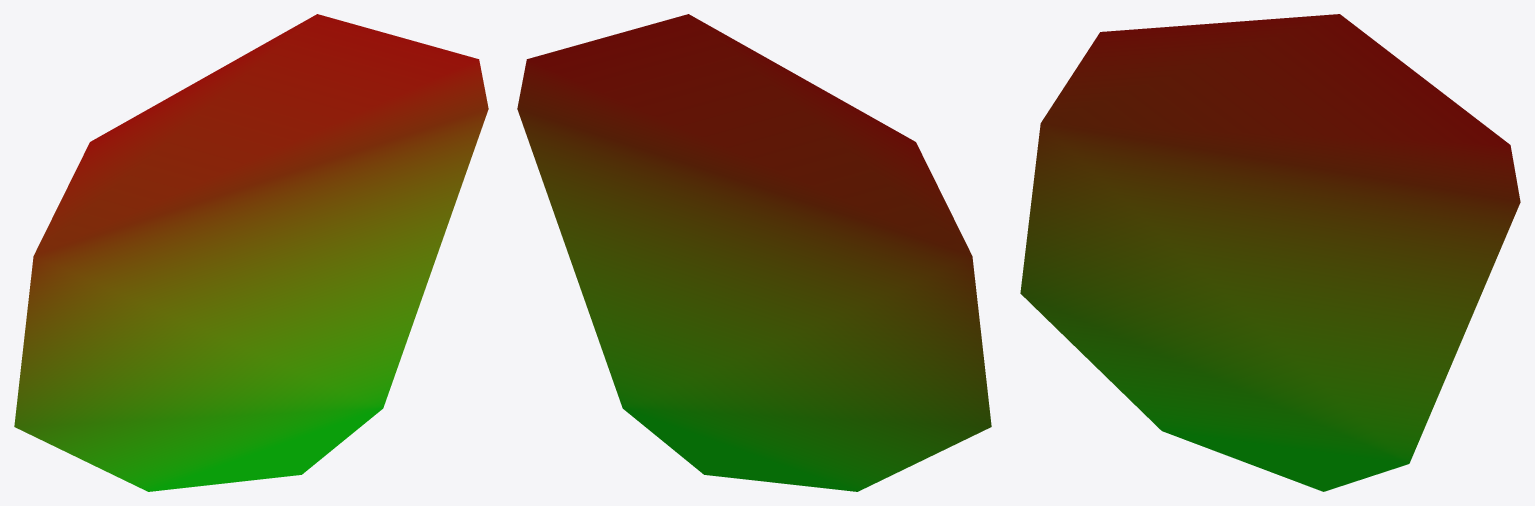
Rendered from Var2_LOD6.fbx.
3 renders of one model, left to right at view 1: azimuth 30°, elevation 25°; view 2: azimuth 150°, elevation 25°; view 3: azimuth 330°, elevation 25°, orthographic. The views are drawn at different scales.
Parts seen in each view (by area): view 1: _70c4_Var2_LOD6; view 2: _70c4_Var2_LOD6; view 3: _70c4_Var2_LOD6.
Part boxes in pixels (left/top/right/bottom): _70c4_Var2_LOD6: left=14, top=14, right=488, bottom=491; _70c4_Var2_LOD6: left=517, top=14, right=991, bottom=491; _70c4_Var2_LOD6: left=1020, top=14, right=1520, bottom=491.
Bounding box in the file's own units: 109 × 100 × 7.58e-06.
